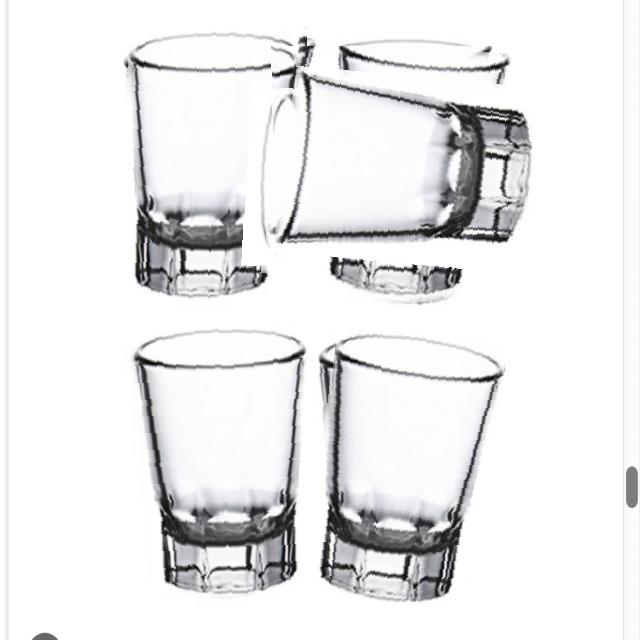recyclable: (271, 46, 536, 312), (119, 18, 307, 322), (314, 322, 505, 607), (125, 324, 308, 606)
